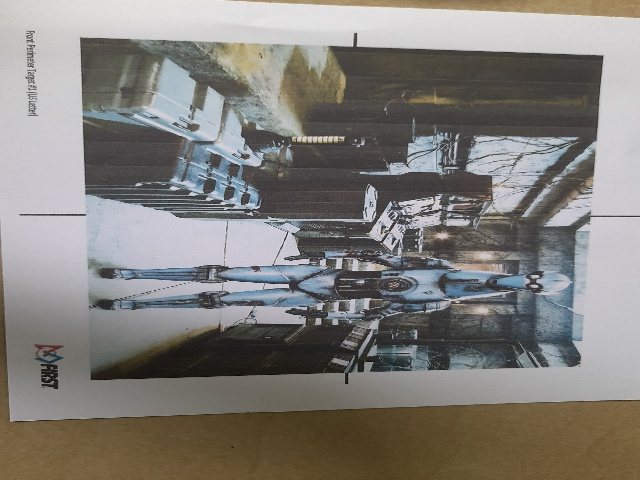fpt1: (22, 12, 629, 394)
